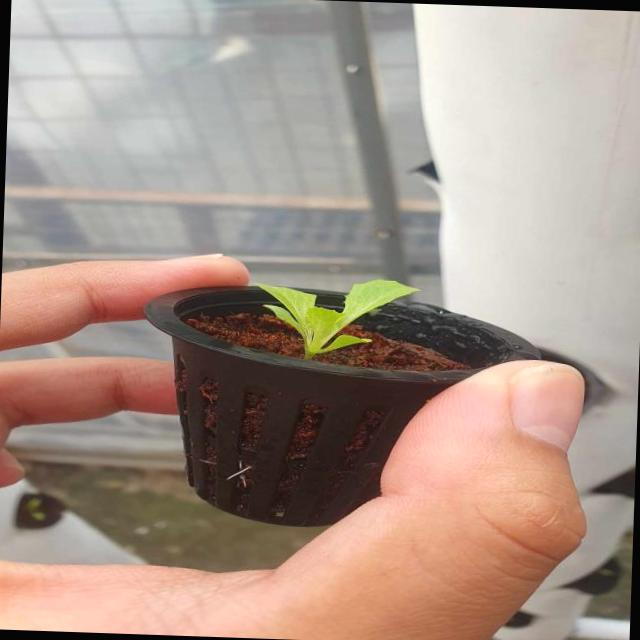Lettuce-Not-Ready-to-Harvest: (254, 279, 420, 359)
